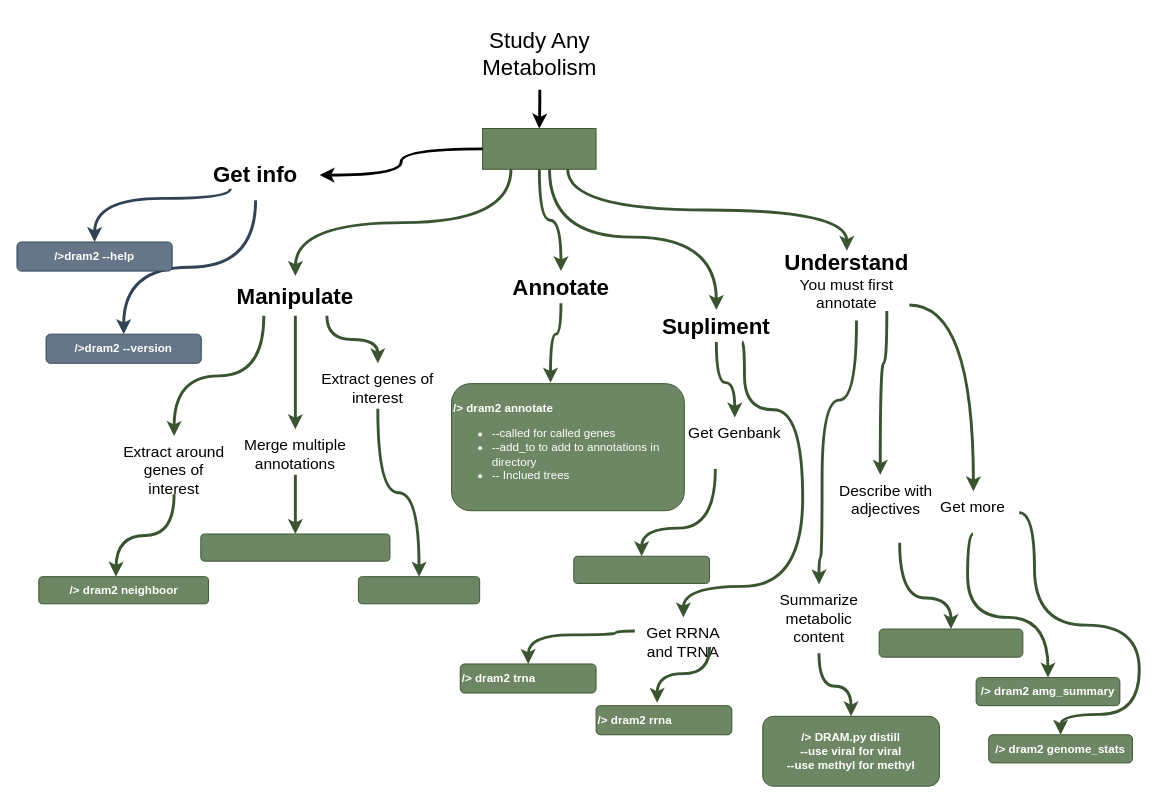
The diagram is 1157 pixels wide and 803 high, and some of its shapes have lost their labels. The shapes that lost their labels are listed below. From the top down, each one's centre as x and y in pixels, then its label:
point 539,148: You run: dram2
point 295,547: /> dram2 merge
point 641,569: /> dram2 genbank
point 418,590: /> dram2 strain
point 950,642: /> dram2 adjective
